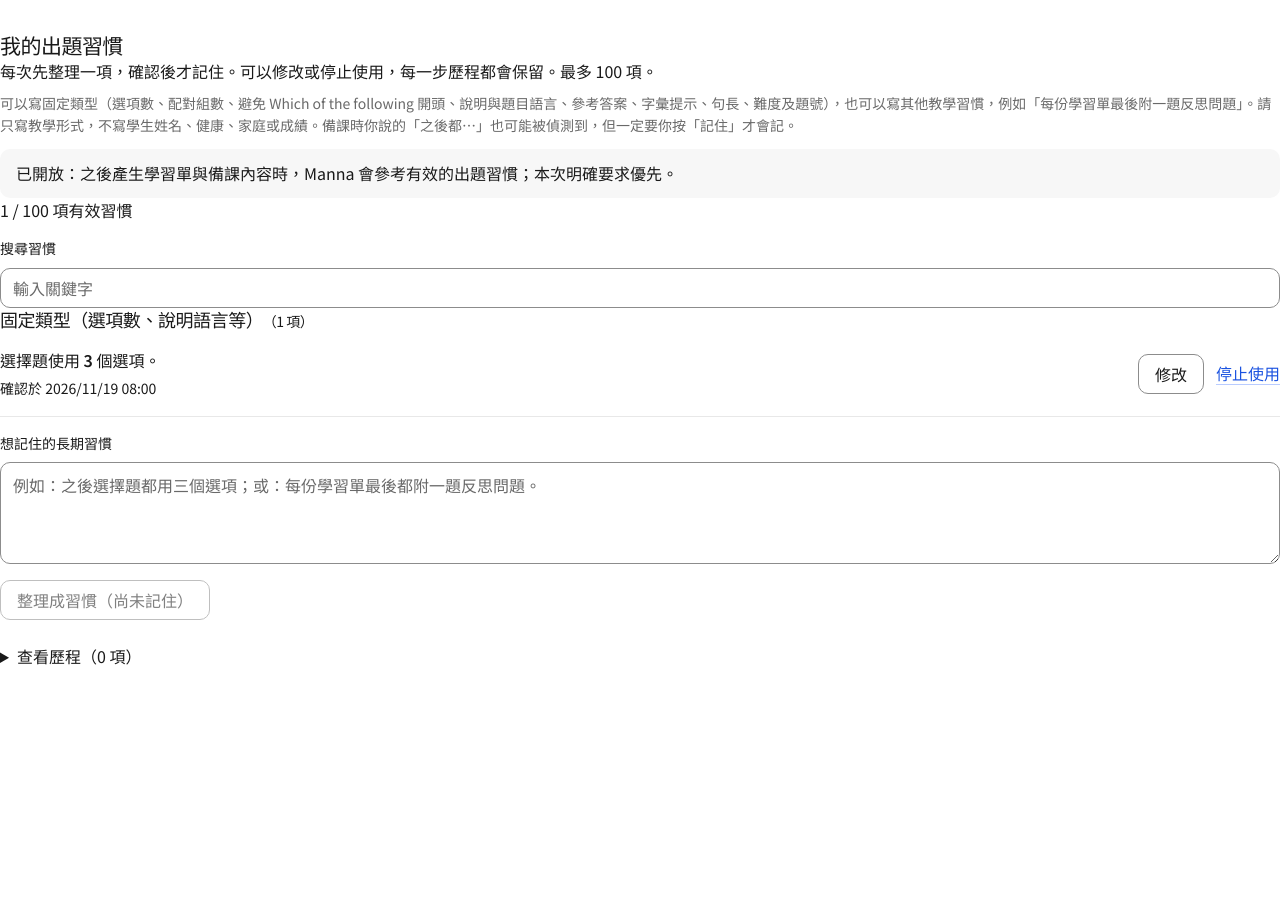
Test case: confirmed teaching habits › requires an explicit stop confirmation and keeps errors visible
This screenshot has width=1280, height=900.
What coordinates should you click on to do the following:
click the button named "停止使用："
I would click on:
 (1248, 374)
Its box is [1216,361,1279,386].
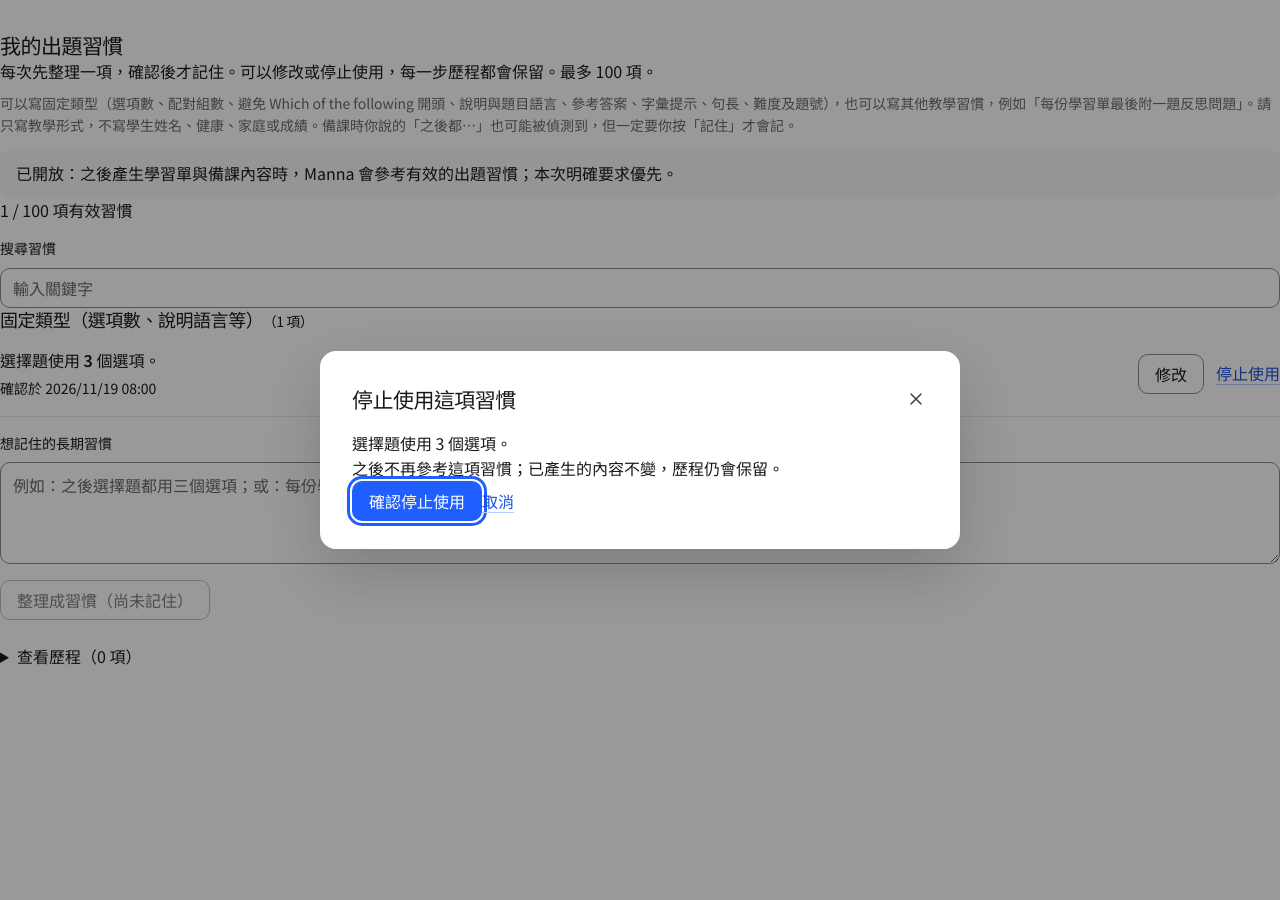
What coordinates should you click on to do the following:
click the button "確認停止使用"
I would click on:
 (417, 501)
Its box is [352,481,482,521].
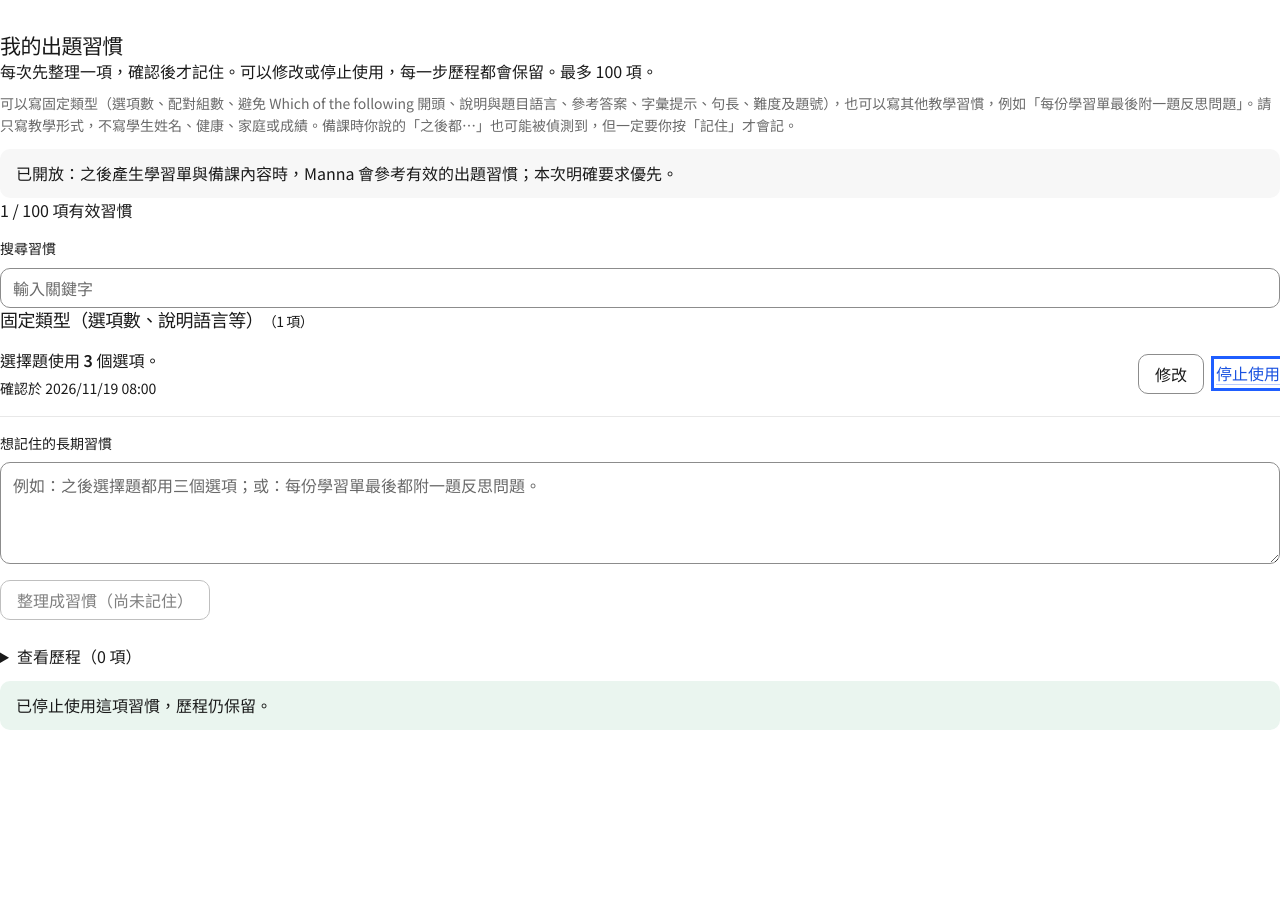
Result: the text "已停止使用這項習慣，歷程仍保留。" is shown at [0,681,1279,730]
